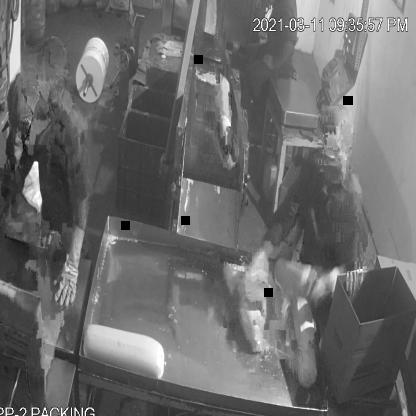no_glove: (264, 34, 297, 78)
